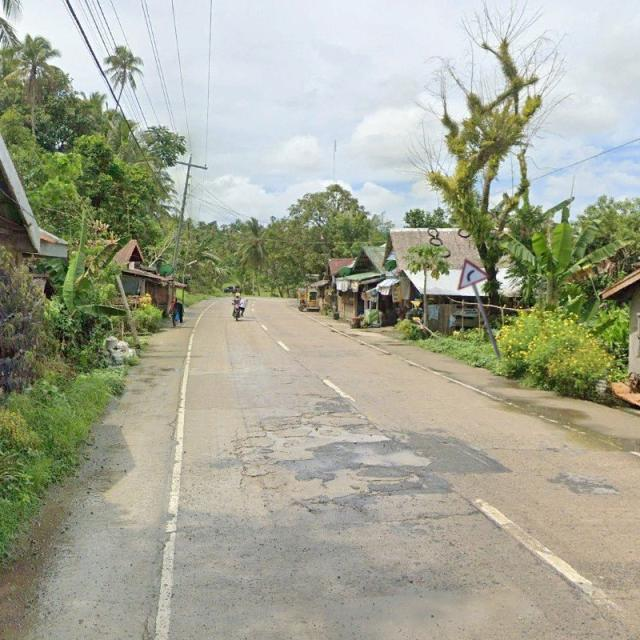warn_right_curve: (457, 258, 491, 291)
